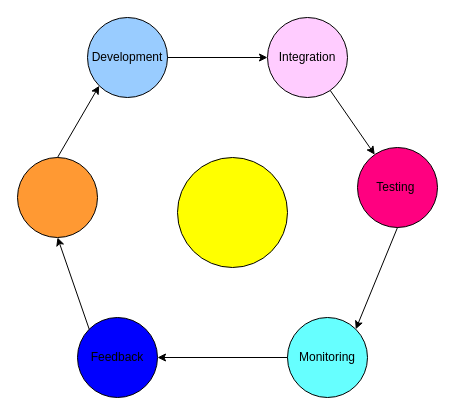
The diagram is 455 pixels wide and 415 high, and some of its shapes have lost their labels. Here are the shapes that lost their labels. From the top down, the box of each, then its label:
(16, 156, 98, 238): Conclusion
(176, 156, 288, 268): DEVOPS LIFE CYCLE
